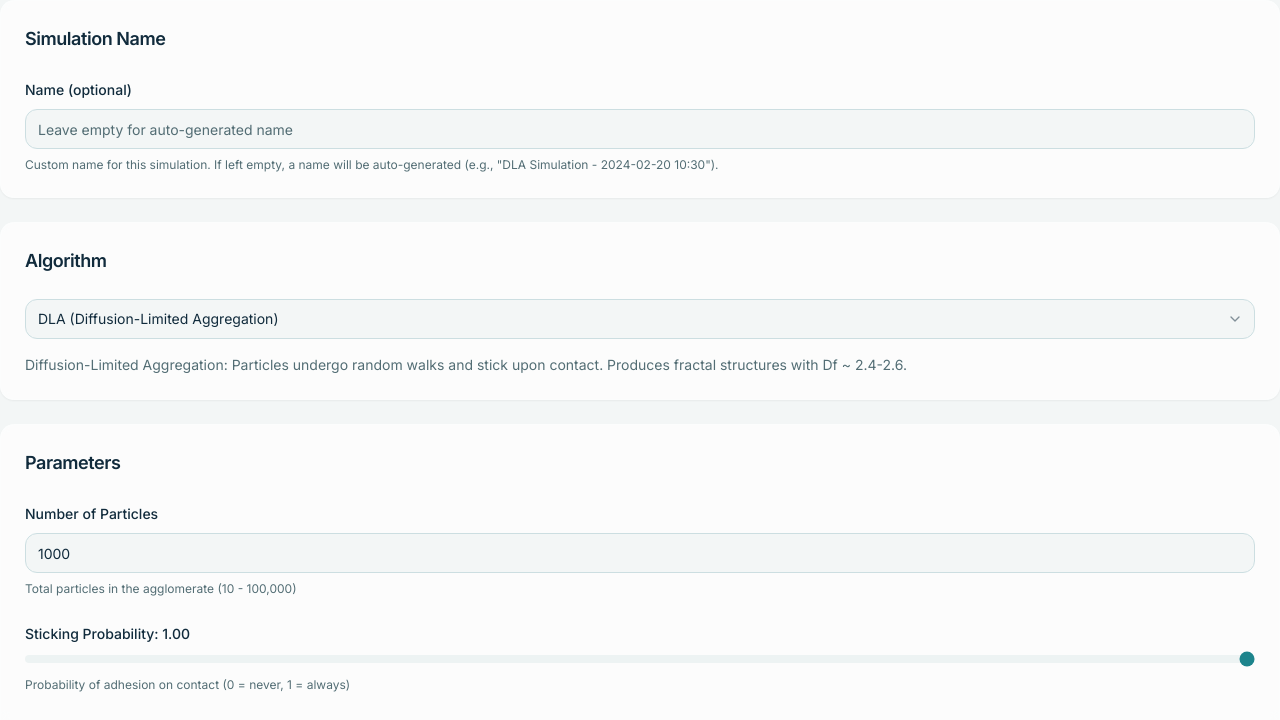
SimulationForm — dpo distribution (PYA-15 P5.3-P5.5) › renders target_kf distribution selector for tunable_cc algorithm
Select "Tunable CC (Cluster-Cluster)" in the dropdown at (640, 319), box [25, 299, 1255, 339]
(page scrolled)
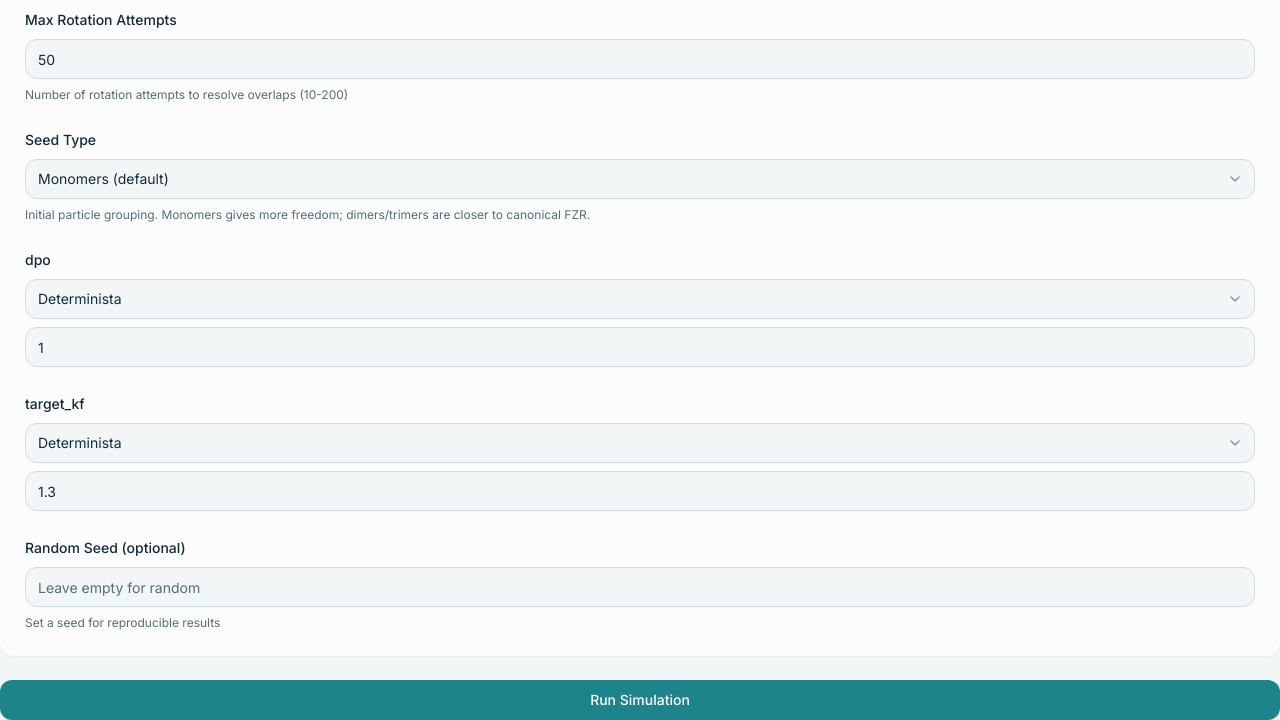
Result: the text "target_kf" is shown at [25, 395, 85, 412]
